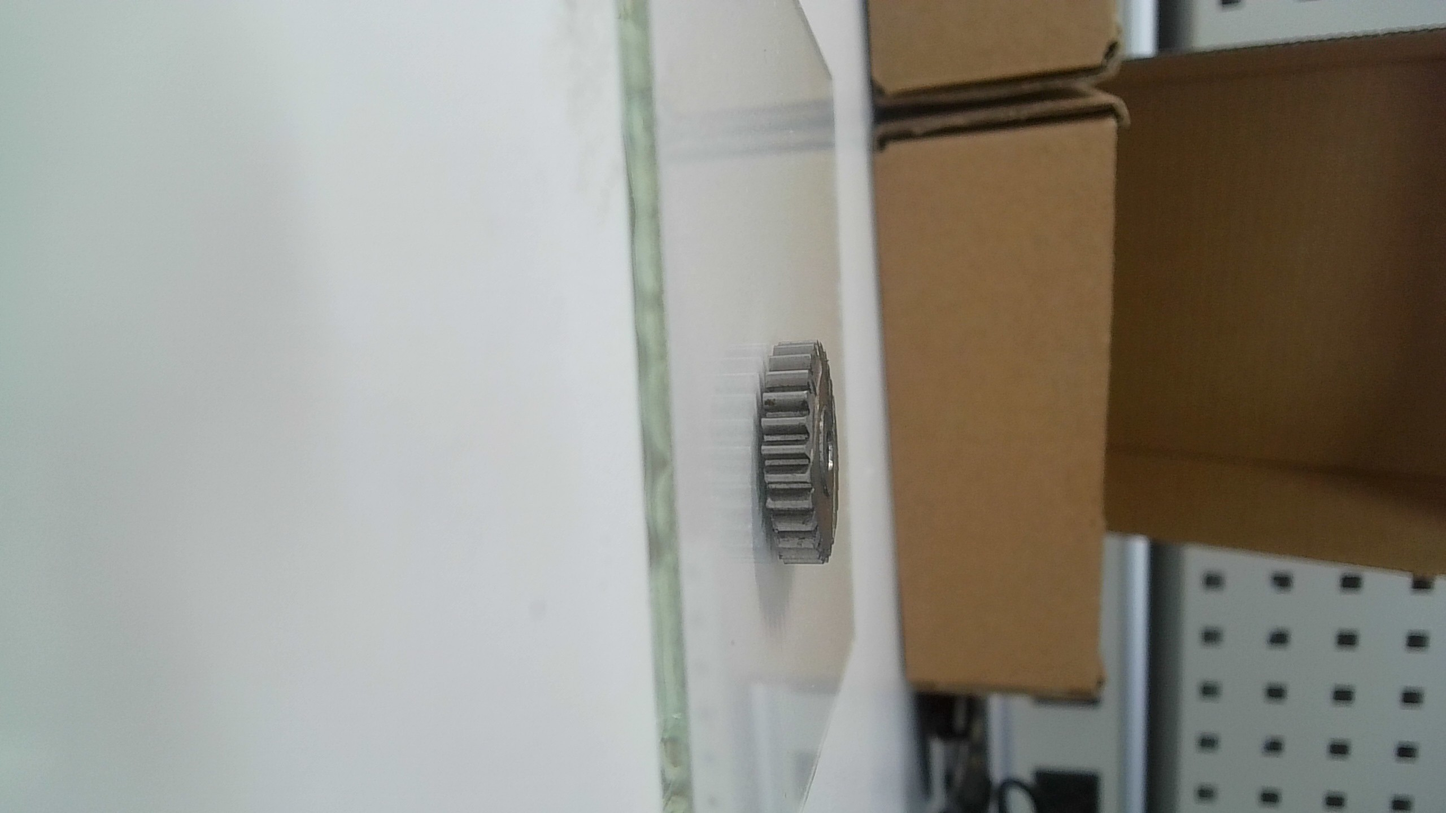gear: (752, 335, 849, 572)
